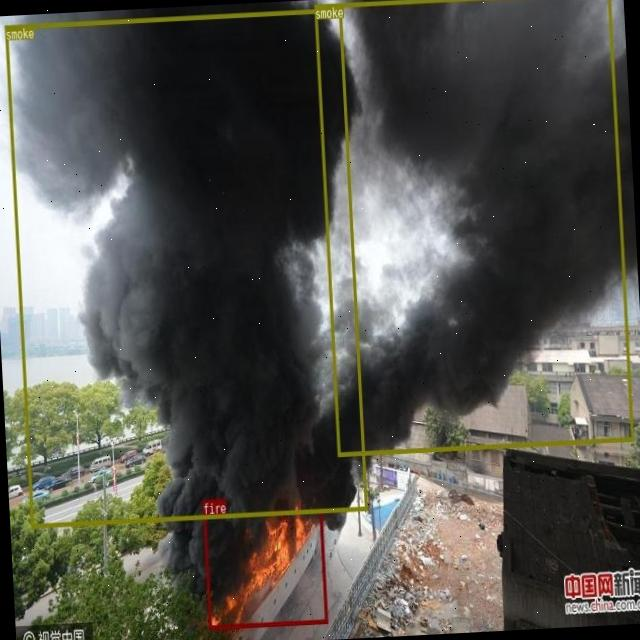fire: (203, 509, 328, 629)
smoke: (5, 8, 368, 528), (313, 0, 633, 456)
